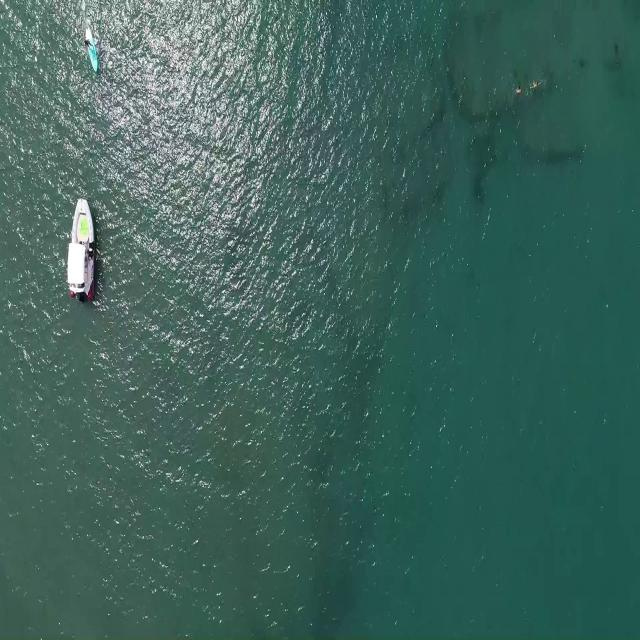boat: (66, 187, 98, 307)
person: (530, 79, 546, 91), (84, 36, 96, 51), (514, 85, 522, 95)
surfboard: (84, 27, 98, 74)
